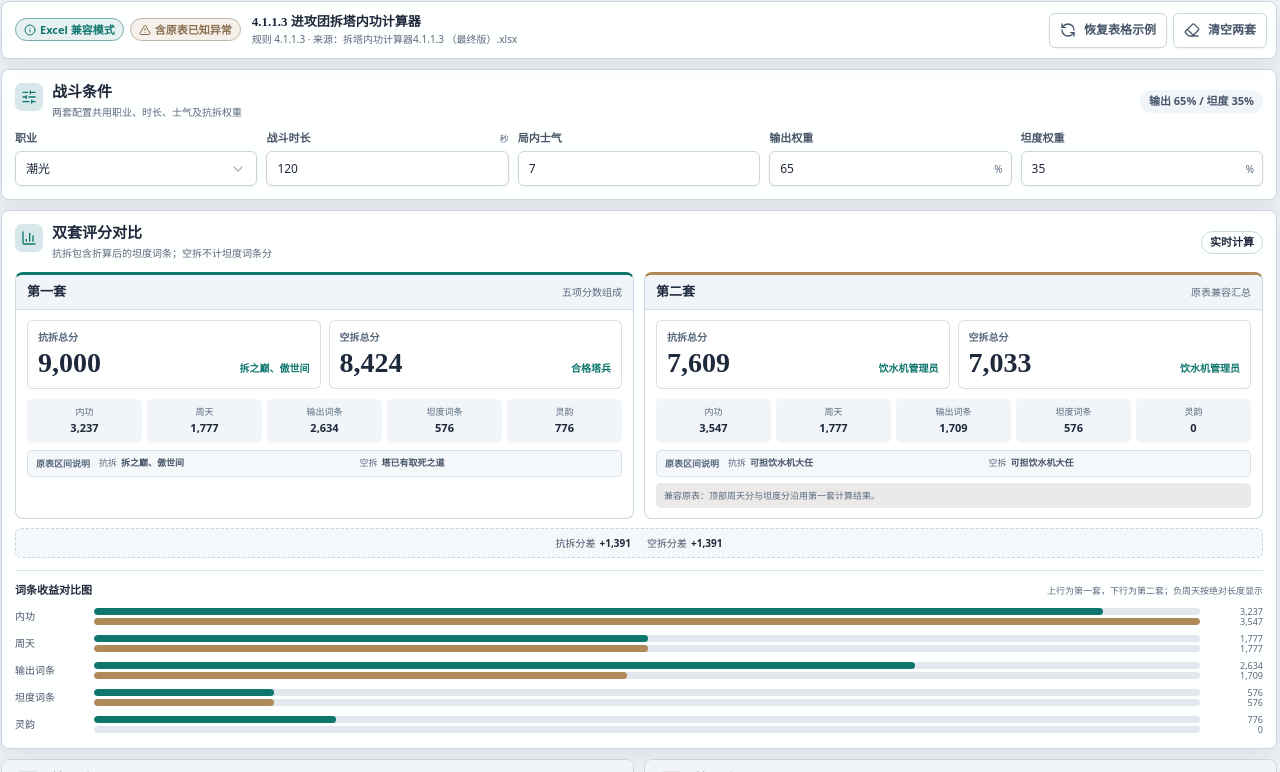
TowerDemolitionCalculatorPage › clears only the two builds and can restore the spreadsheet example
The width and height of the screenshot is (1280, 772).
Click the button "清空两套" at (1220, 30), box [1173,12,1267,48]
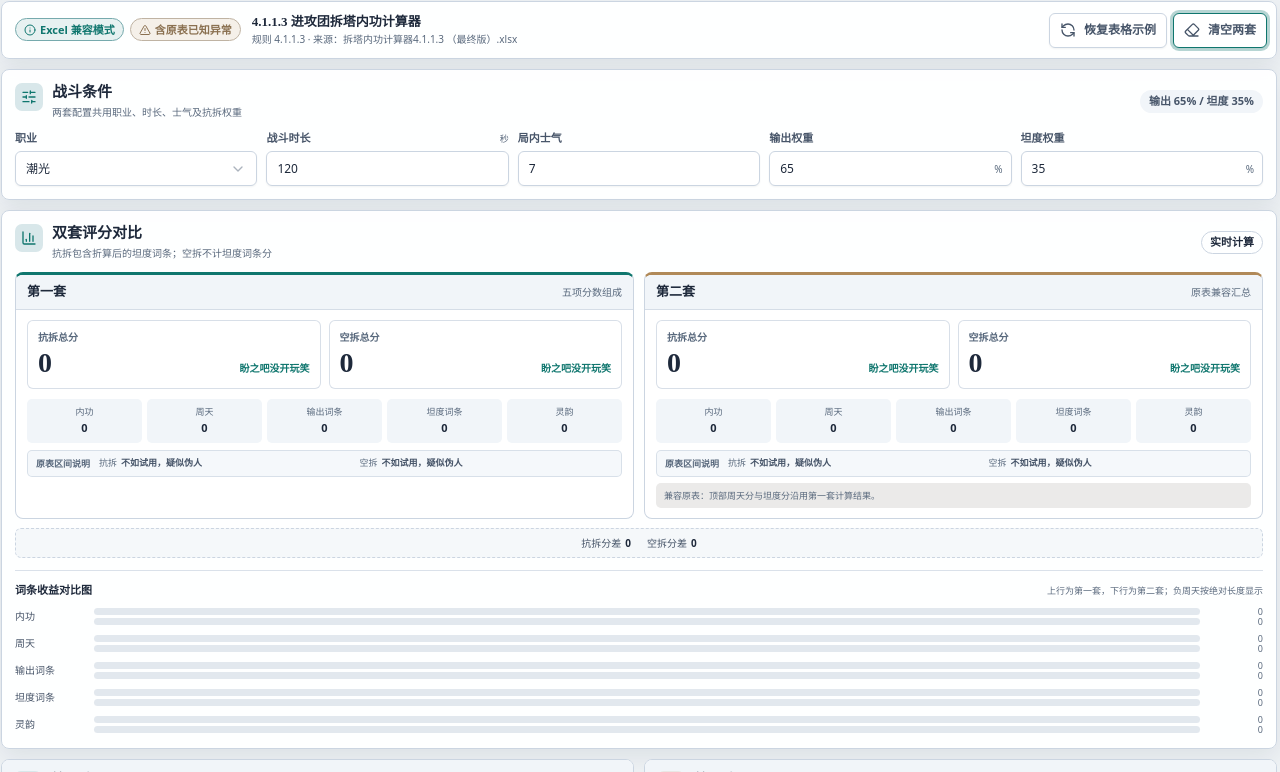
Expected: the number field labelled "战斗时长" holds "120", [266,151,509,186]
Expected: the number field labelled "输出权重" holds "65", [769,151,1012,186]
Click the button "恢复表格示例" at (1108, 30), box [1049,12,1167,48]
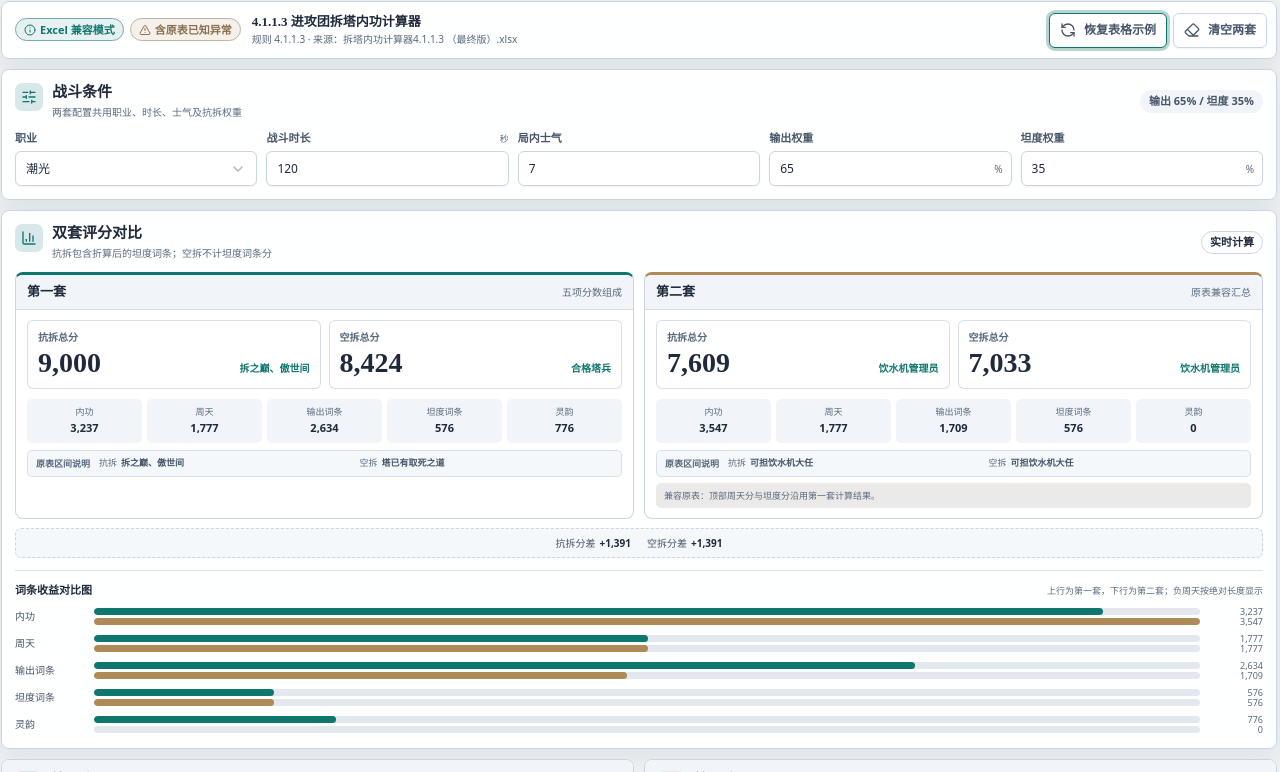
Expected: the element named "第一套抗拆总分" shows "9,000", [38,347,101,378]
